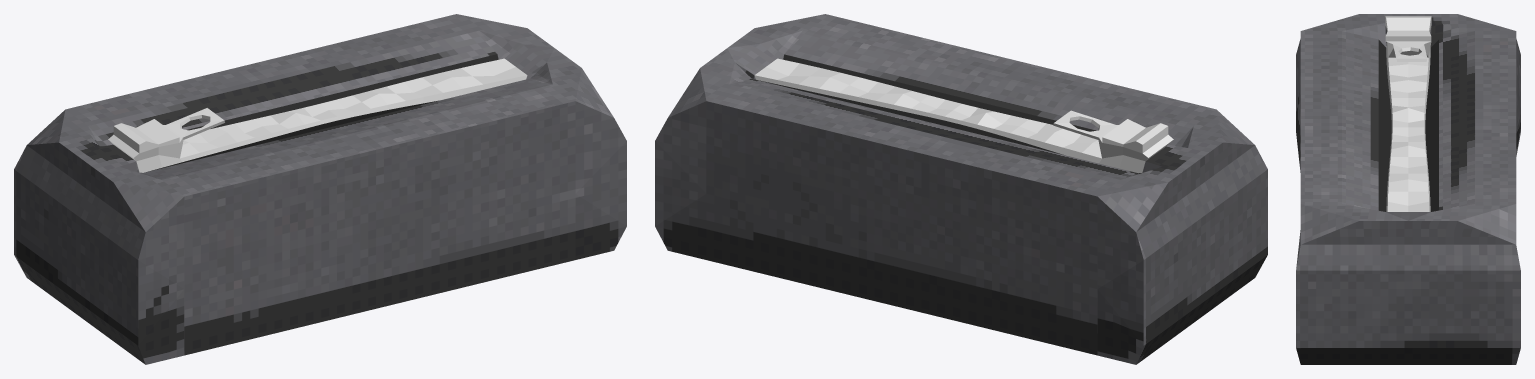
File: Astuccio.fbx
3 renders of one model, left to right at view 1: azimuth 30°, elevation 25°; view 2: azimuth 150°, elevation 25°; view 3: azimuth 270°, elevation 25°, orthographic. The views are drawn at different scales.
Visible parts, largest first — view 1: Cube.016; view 2: Cube.016; view 3: Cube.016.
Boxes of the visible parts, x1,y1,x2,y2 form: Cube.016: (14, 14, 626, 364); Cube.016: (655, 14, 1267, 364); Cube.016: (1296, 14, 1520, 364).
Bounding box in the file's own units: 0.2619 × 0.091 × 0.1152.
Materials: 3 (1 with a texture image).
